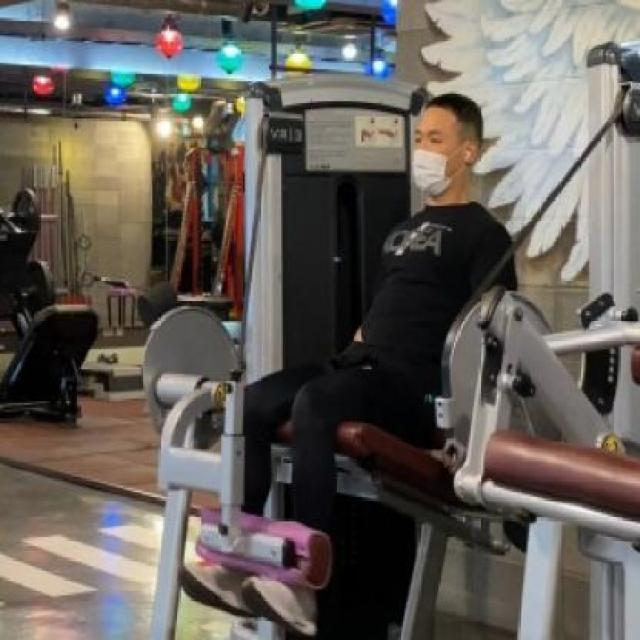leg extension: (126, 60, 569, 640)
